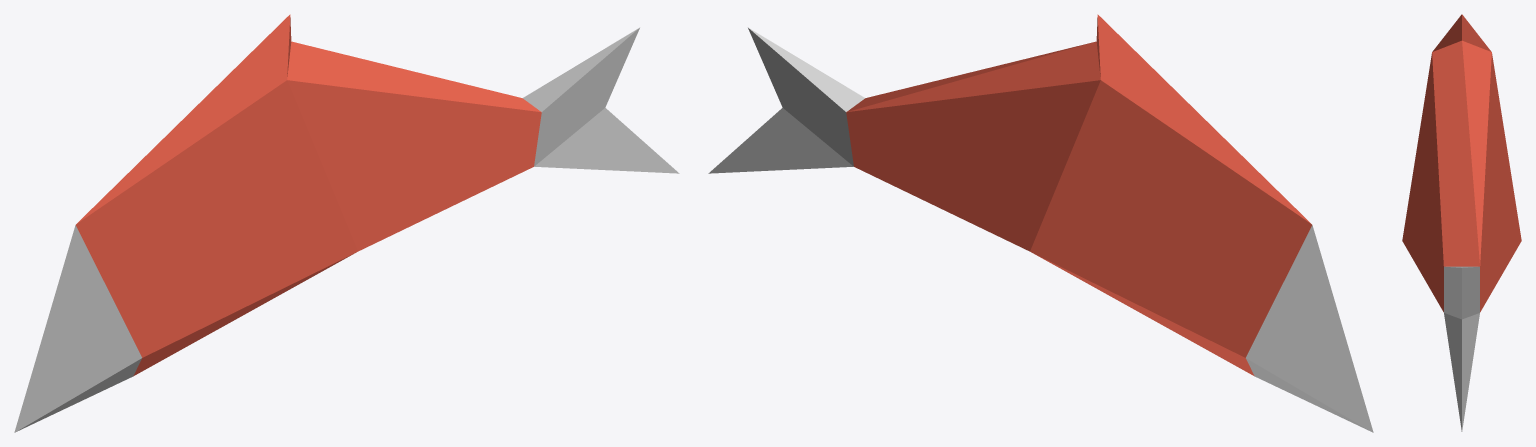
Rendered from Fish.fbx.
The picture shows the model from 3 angles, left to right: view 1: azimuth 30°, elevation 25°; view 2: azimuth 150°, elevation 25°; view 3: azimuth 270°, elevation 25°; orthographic projection. The views are drawn at different scales.
Parts seen in each view (by area): view 1: Fish; view 2: Fish; view 3: Fish.
Boxes of the visible parts, x1,y1,x2,y2 form: Fish: (14, 14, 679, 432); Fish: (708, 14, 1373, 432); Fish: (1402, 14, 1521, 431).
Size of the model in its own units: 1068 by 539 by 176.
